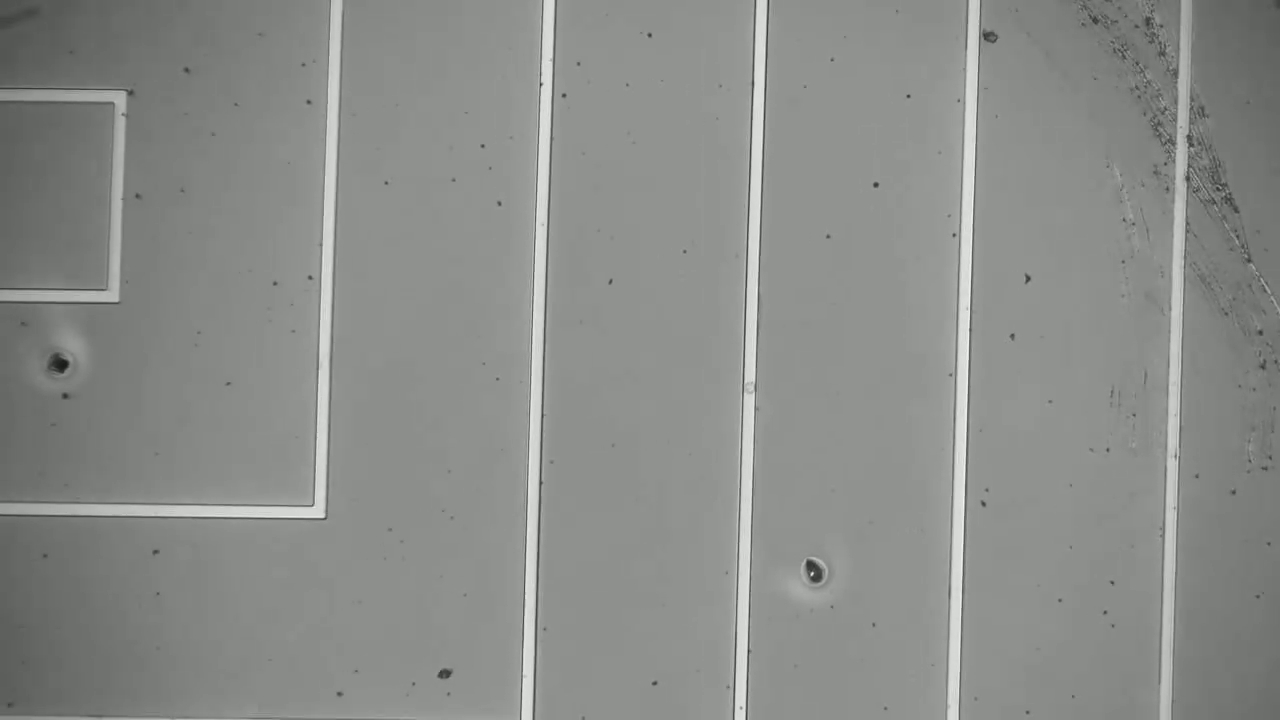scratch: (1075, 1, 1263, 316)
